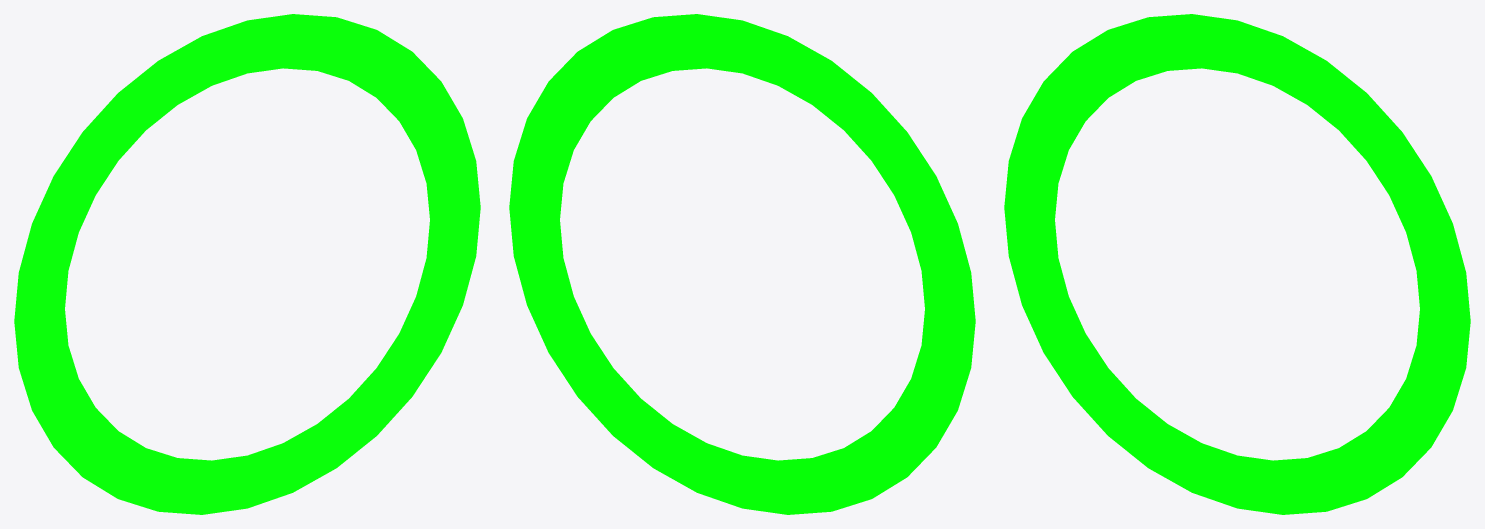
Rendered from c_emission.dae.
3 renders of one model, left to right at view 1: azimuth 30°, elevation 25°; view 2: azimuth 150°, elevation 25°; view 3: azimuth 330°, elevation 25°, orthographic.
Bounding box in the file's own units: 46 × 46 × 0.
